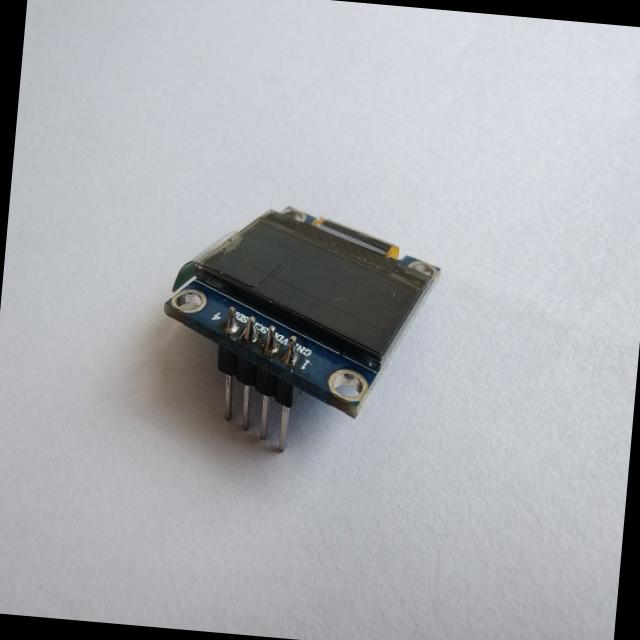oled: (148, 179, 452, 481)
